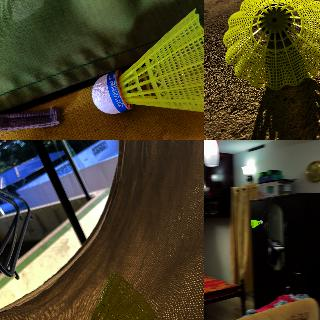shuttlecock: (92, 8, 203, 116), (222, 0, 319, 90), (72, 273, 156, 319), (250, 220, 262, 228)
